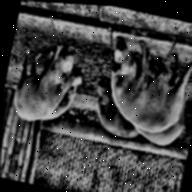boar: (93, 25, 192, 148), (8, 29, 80, 130), (80, 72, 123, 144), (52, 67, 93, 124)
